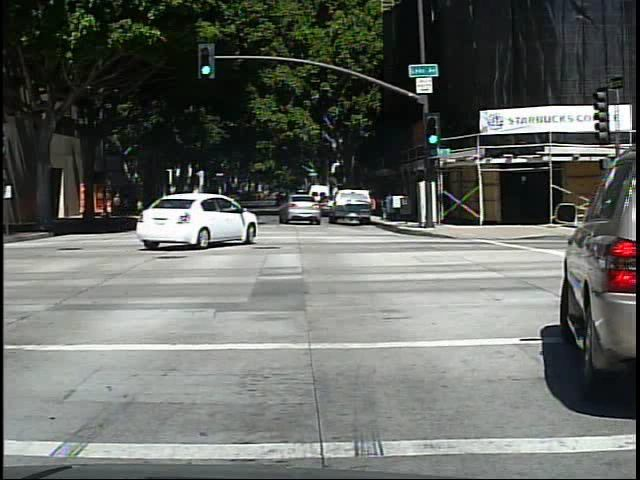person: (109, 188, 125, 221)
